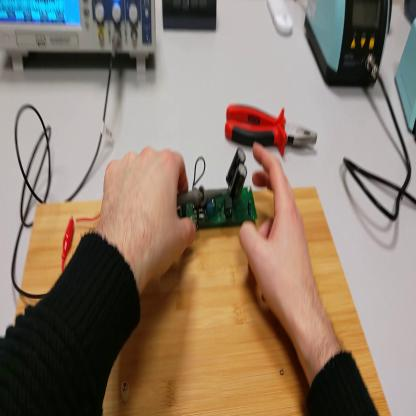hand: (97, 146, 197, 297), (242, 140, 315, 344)
high voltage board: (179, 144, 259, 229)
oscilloscope: (2, 3, 157, 75)
oscilloscope probe tip: (178, 189, 230, 208)
pliers: (223, 101, 321, 156)
welder base: (394, 16, 415, 136)
welder station: (303, 3, 391, 90)
working area: (16, 186, 392, 414)
